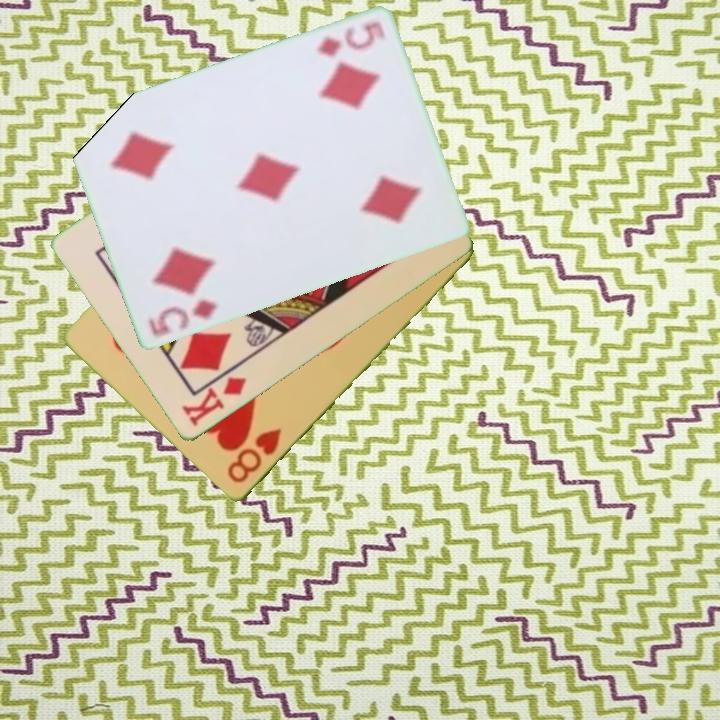5d: (145, 296, 221, 341), (313, 18, 388, 60)
8h: (223, 425, 285, 487)
Kd: (178, 373, 250, 430)
